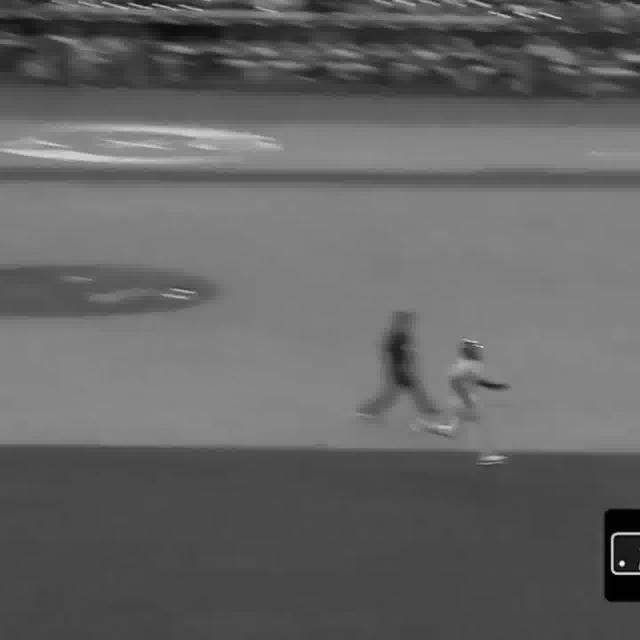shoe: (476, 452, 508, 467), (411, 420, 424, 439)
